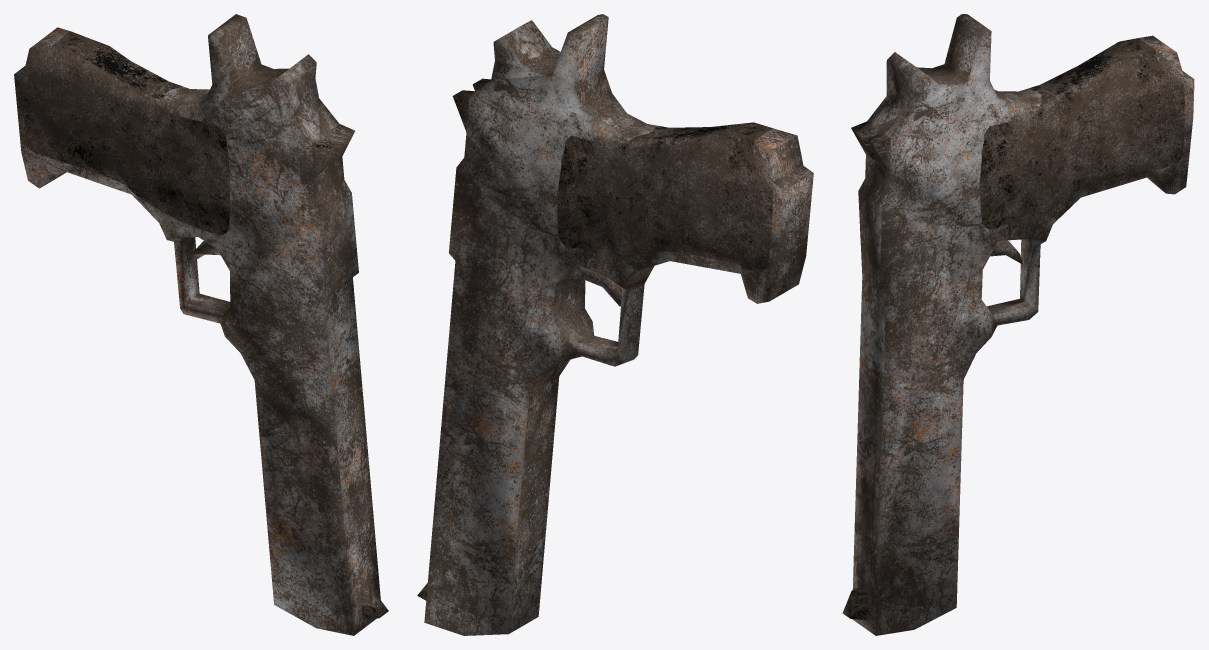
Rendered from Anim_idle_pistola_objetos.0016.obj.
The picture shows the model from 3 angles, left to right: view 1: azimuth 30°, elevation 25°; view 2: azimuth 210°, elevation 25°; view 3: azimuth 270°, elevation 25°; orthographic projection. The views are drawn at different scales.
Parts seen in each view (by area): view 1: Pistola1; view 2: Pistola1; view 3: Pistola1.
Boxes of the visible parts, left/top/right/bottom form: Pistola1: left=14, top=14, right=388, bottom=635; Pistola1: left=417, top=14, right=813, bottom=635; Pistola1: left=842, top=14, right=1194, bottom=635.
Bounding box in the file's own units: 0.66 × 1.69 × 0.9512.
